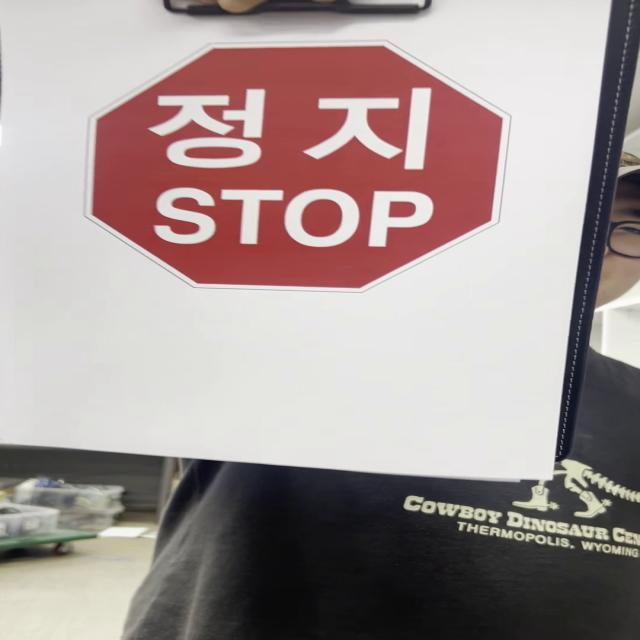stop: (88, 43, 511, 291)
